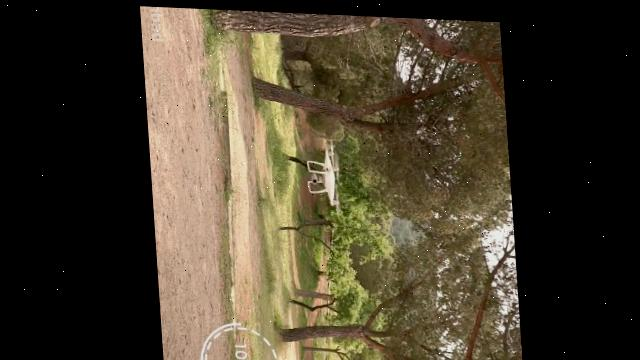drone: (302, 131, 341, 211)
